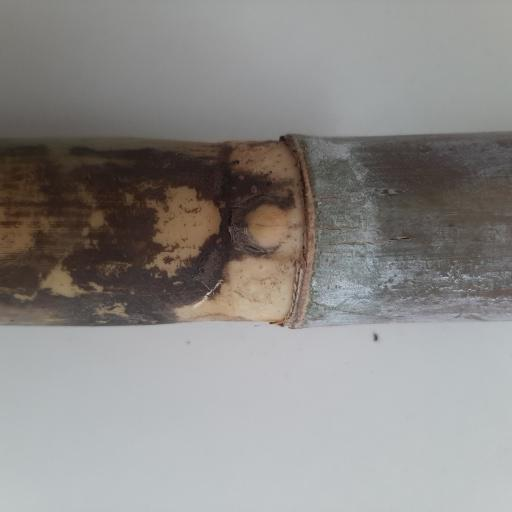Bud: (235, 199, 296, 255)
